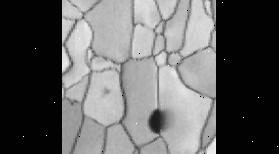good_void: (146, 106, 171, 135), (100, 81, 115, 97)
